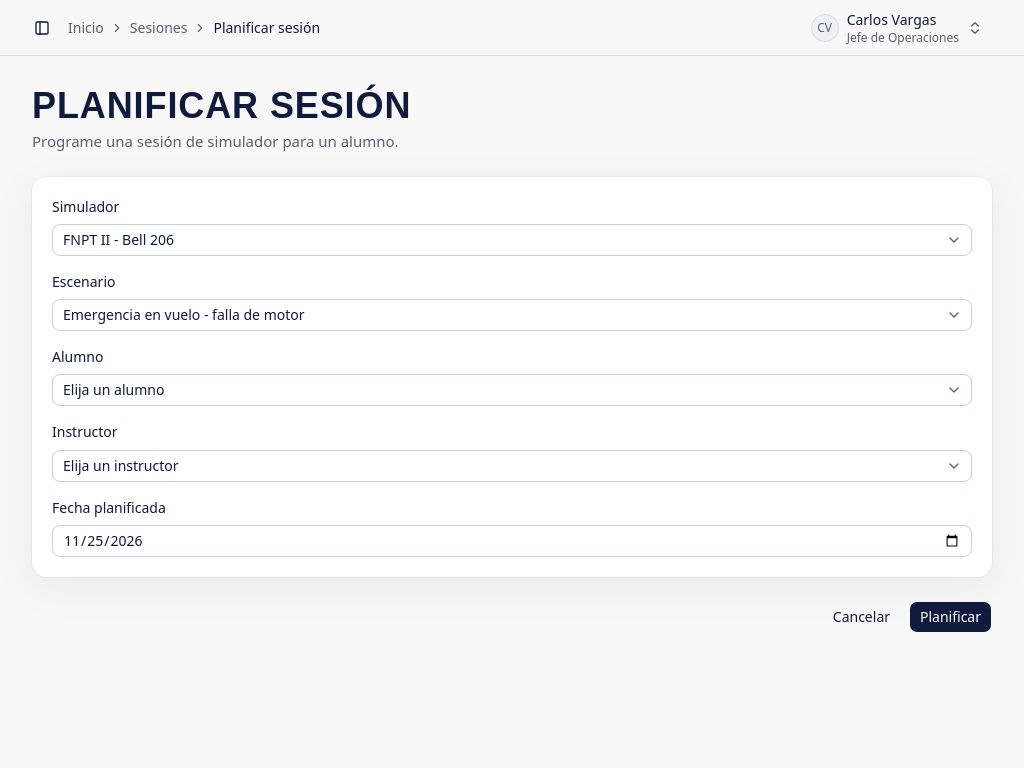
Scenario: Sesiones de simulador — ciclo de vida › planifica una sesión y la inicia
Select "Oscar Lopez Chaparro (111111)" in the dropdown labelled "Alumno" at (512, 390), box [52, 374, 972, 406]
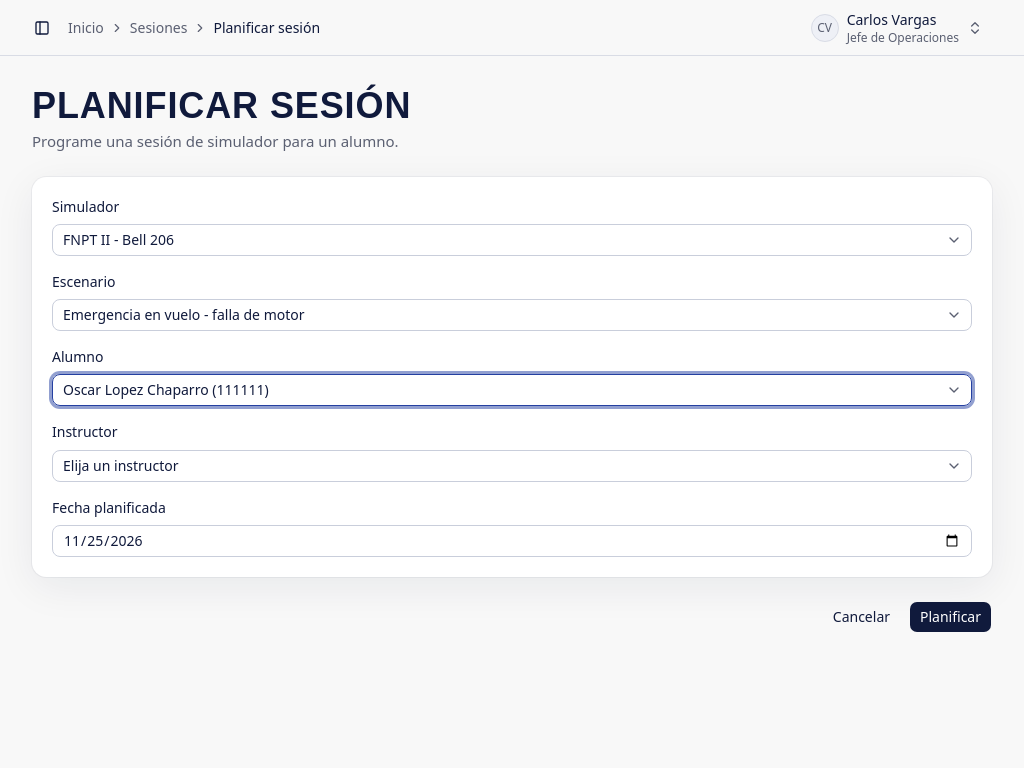
Select "Juan Torres Perez" in the dropdown labelled "Instructor" at (512, 466), box [52, 450, 972, 482]
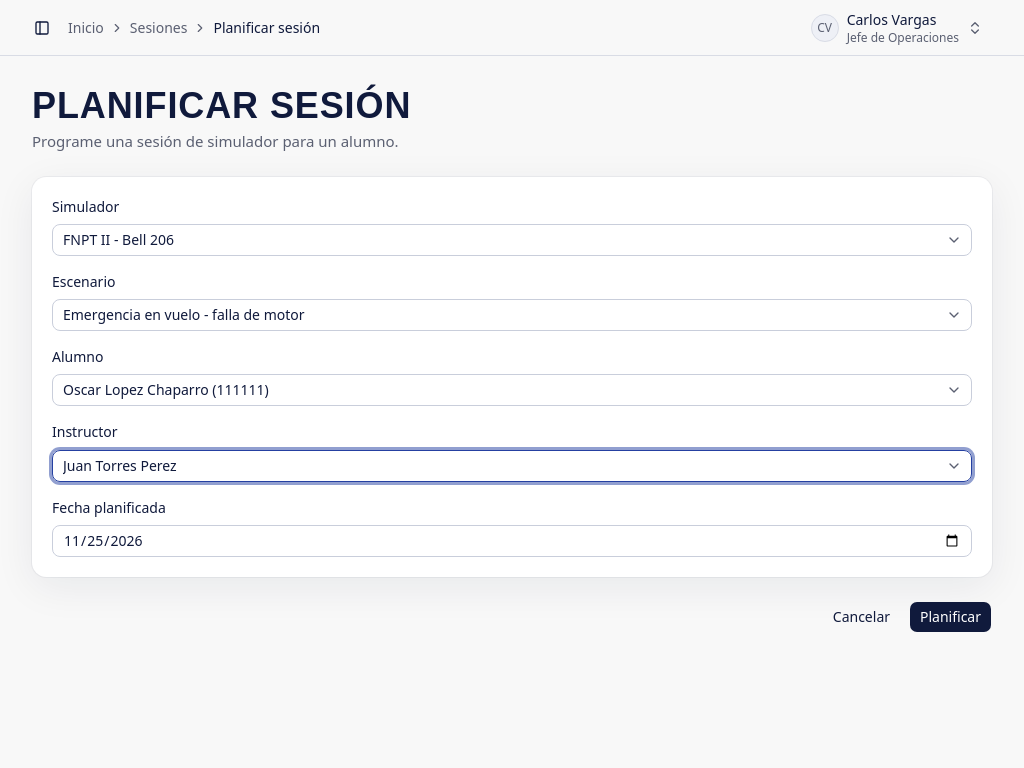
Expected: the date field labelled "Fecha planificada" is not empty, [52, 525, 972, 557]
Click the button "Planificar" at (950, 617), box [909, 601, 992, 633]
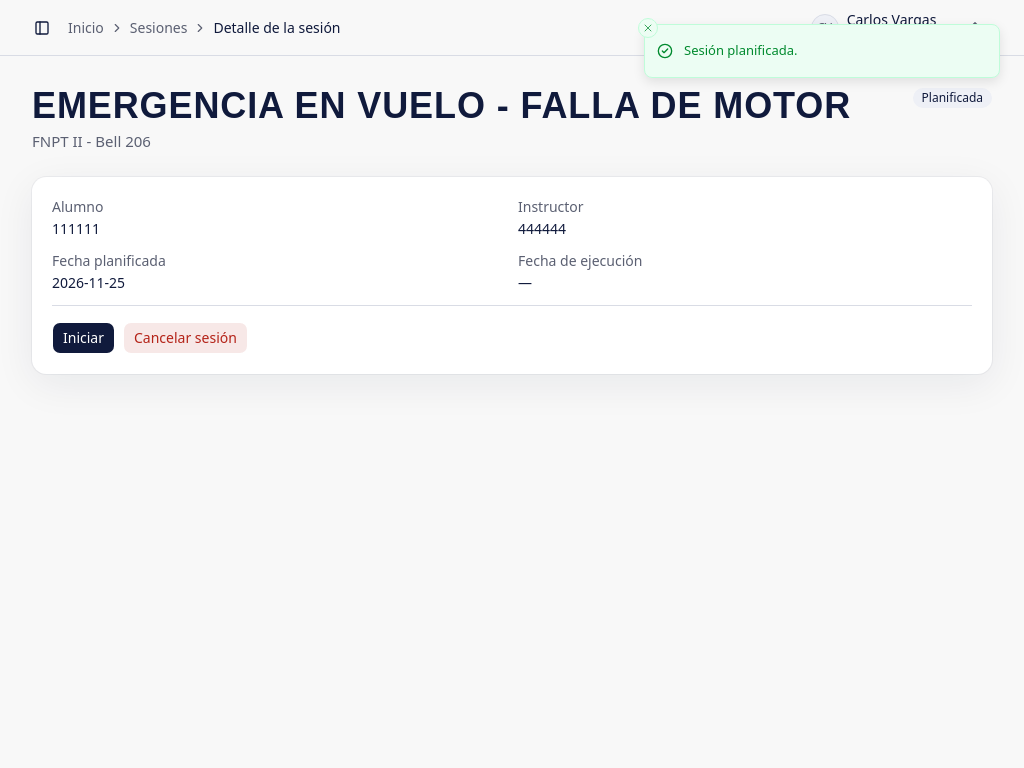
Result: the text "Planificada" is shown at [913, 88, 992, 108]
Click the button "Iniciar" at (84, 338), box [52, 322, 115, 354]
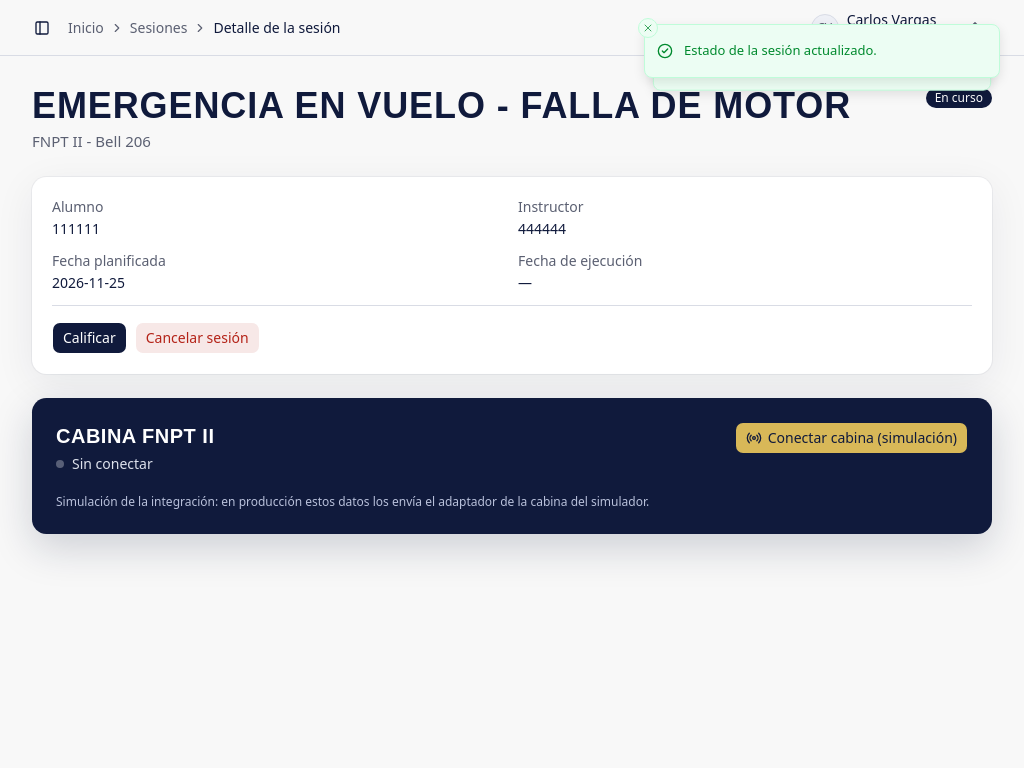
Result: the text "En curso" is shown at [926, 88, 992, 108]
